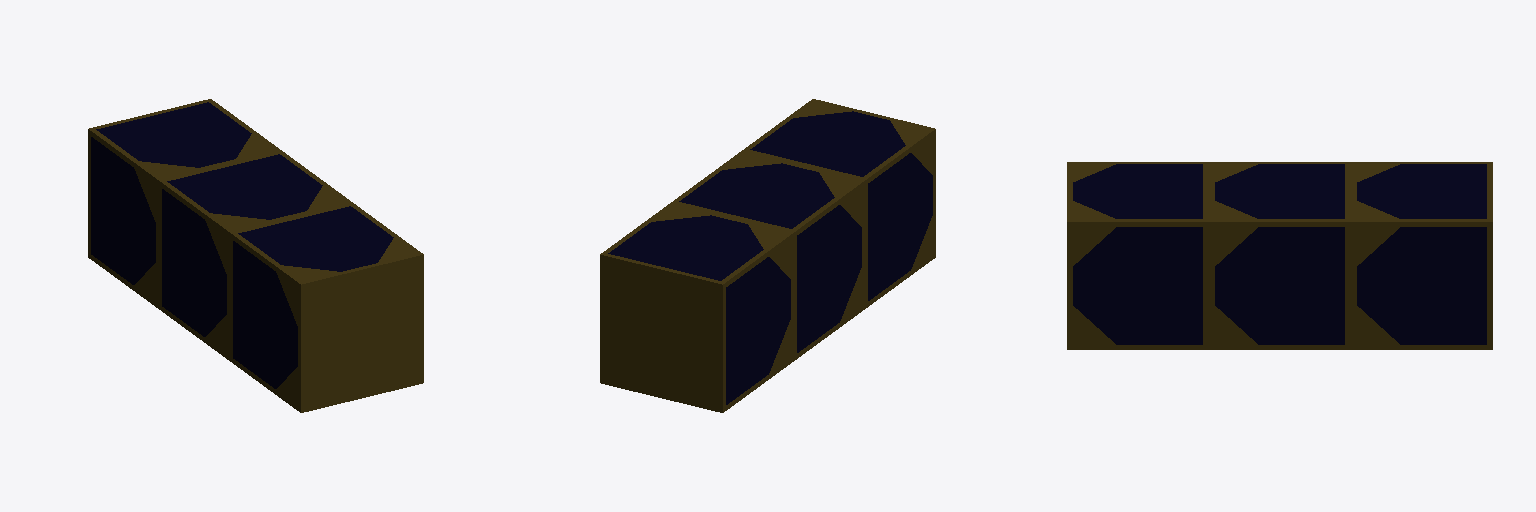
File: Cubesat_3U.obj
3 renders of one model, left to right at view 1: azimuth 30°, elevation 25°; view 2: azimuth 150°, elevation 25°; view 3: azimuth 270°, elevation 25°, orthographic.
Visible parts, largest first — view 1: Cube1; view 2: Cube1; view 3: Cube1.
Boxes of the visible parts, x1,y1,x2,y2 form: Cube1: [88, 99, 423, 412]; Cube1: [600, 99, 935, 412]; Cube1: [1067, 162, 1492, 349].
Bounding box in the file's own units: 0.1 × 0.1 × 0.3.